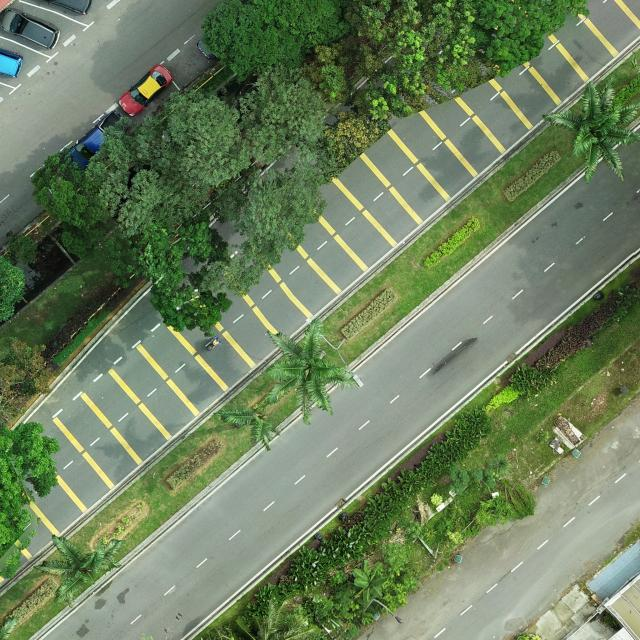banana_tree2: (352, 559, 390, 604)
tree: (84, 59, 342, 298), (31, 147, 234, 339), (344, 0, 590, 121), (200, 0, 356, 85), (542, 75, 640, 184), (264, 318, 360, 425), (0, 422, 62, 558), (32, 533, 126, 604), (208, 593, 319, 640), (0, 336, 49, 425), (213, 407, 282, 452), (0, 255, 26, 323), (9, 236, 38, 264)
